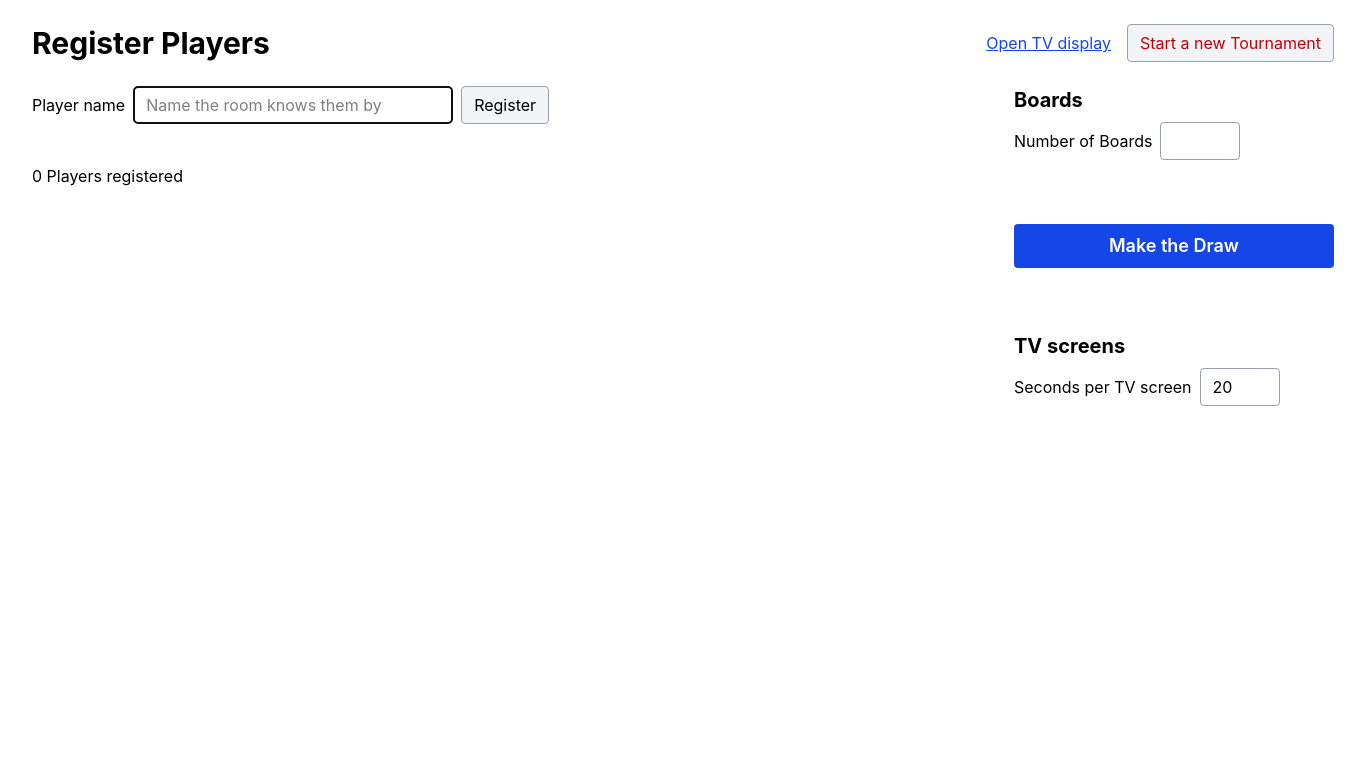
Test: the organizer route › starts a new Tournament only once the Organizer confirms
Step 1. Type "Dave K." into the field labelled "Player name" → (293, 105), box top-left (133, 86), bottom-right (453, 124)
Then press Enter
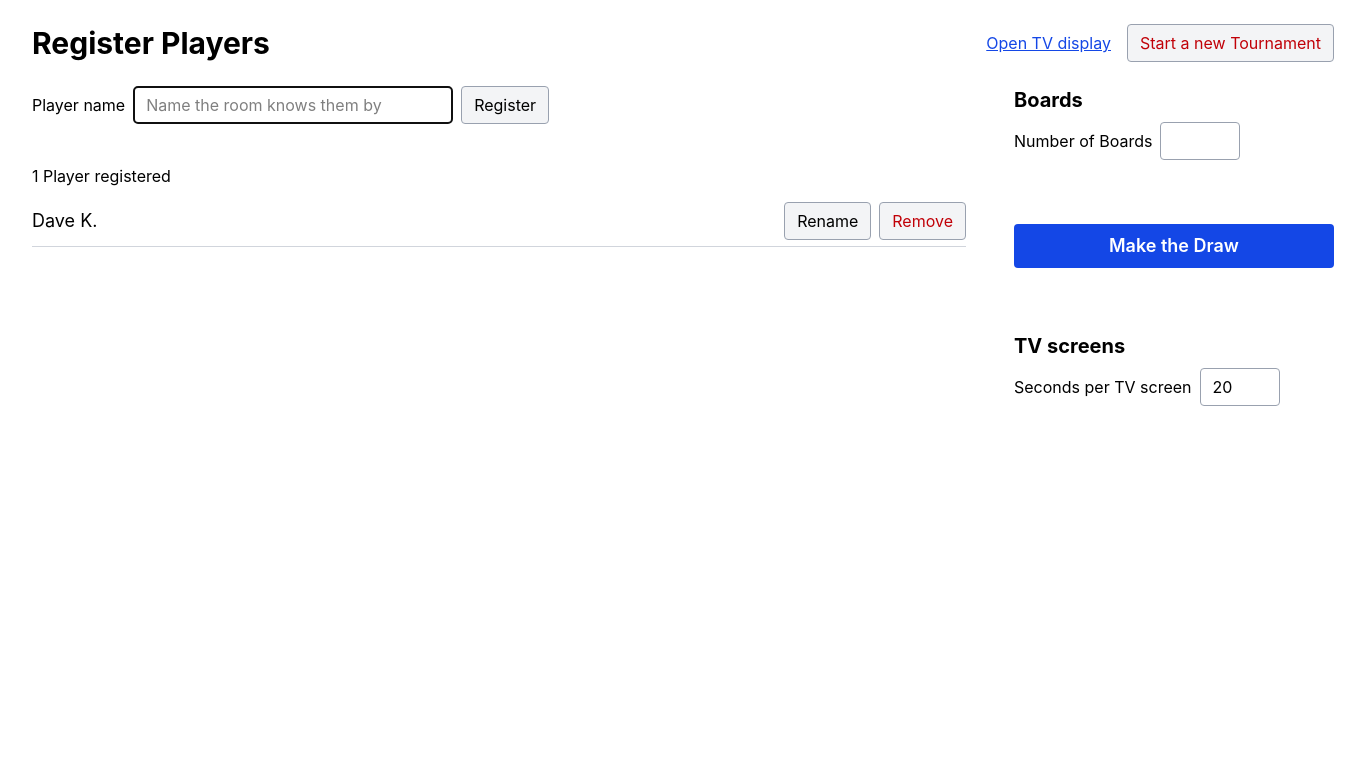
Step 2. Click the button "Start a new Tournament" → (1230, 43), box top-left (1127, 24), bottom-right (1334, 62)
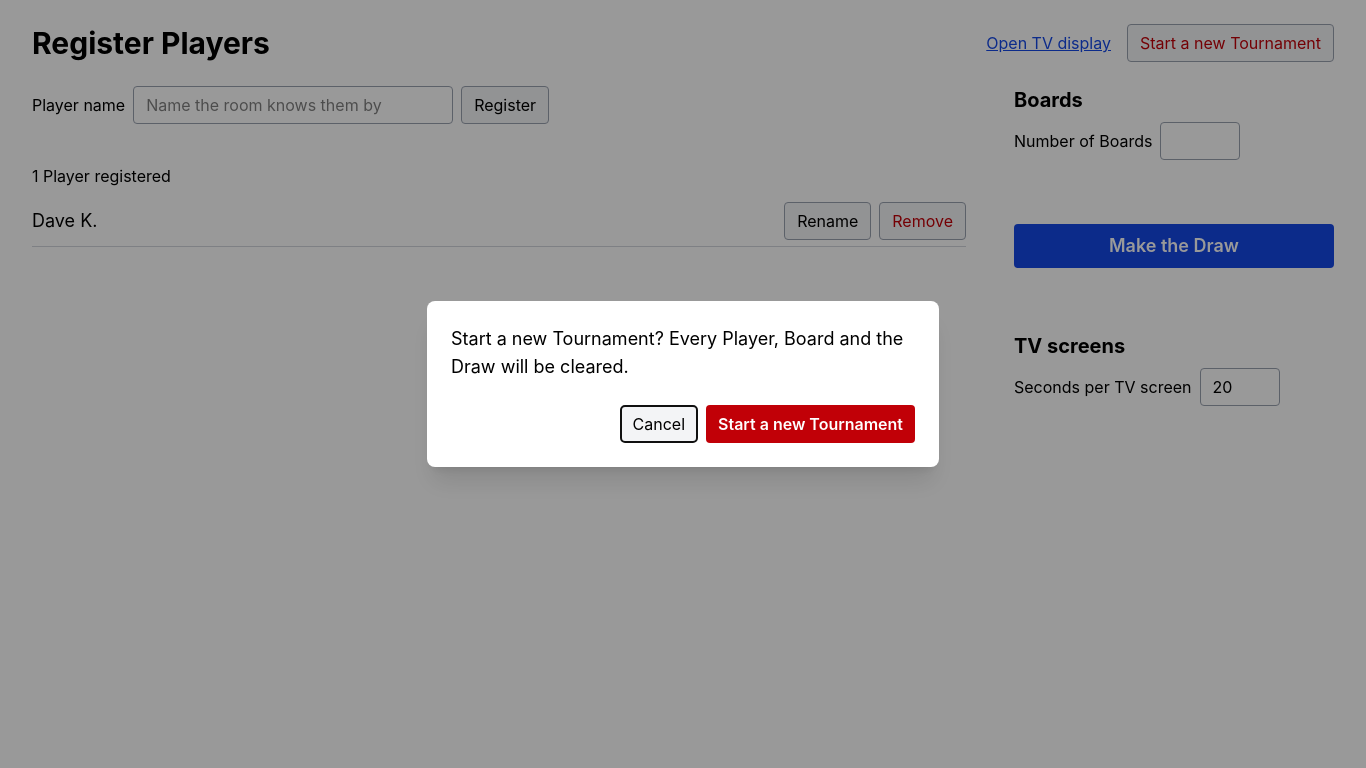
Expected: the dialog shows "Start a new Tournament? Every Player, Board and the Draw will be cleared.", top-left (451, 328), bottom-right (903, 377)
Step 3. Click the button "Cancel" → (659, 424), box top-left (620, 405), bottom-right (698, 443)
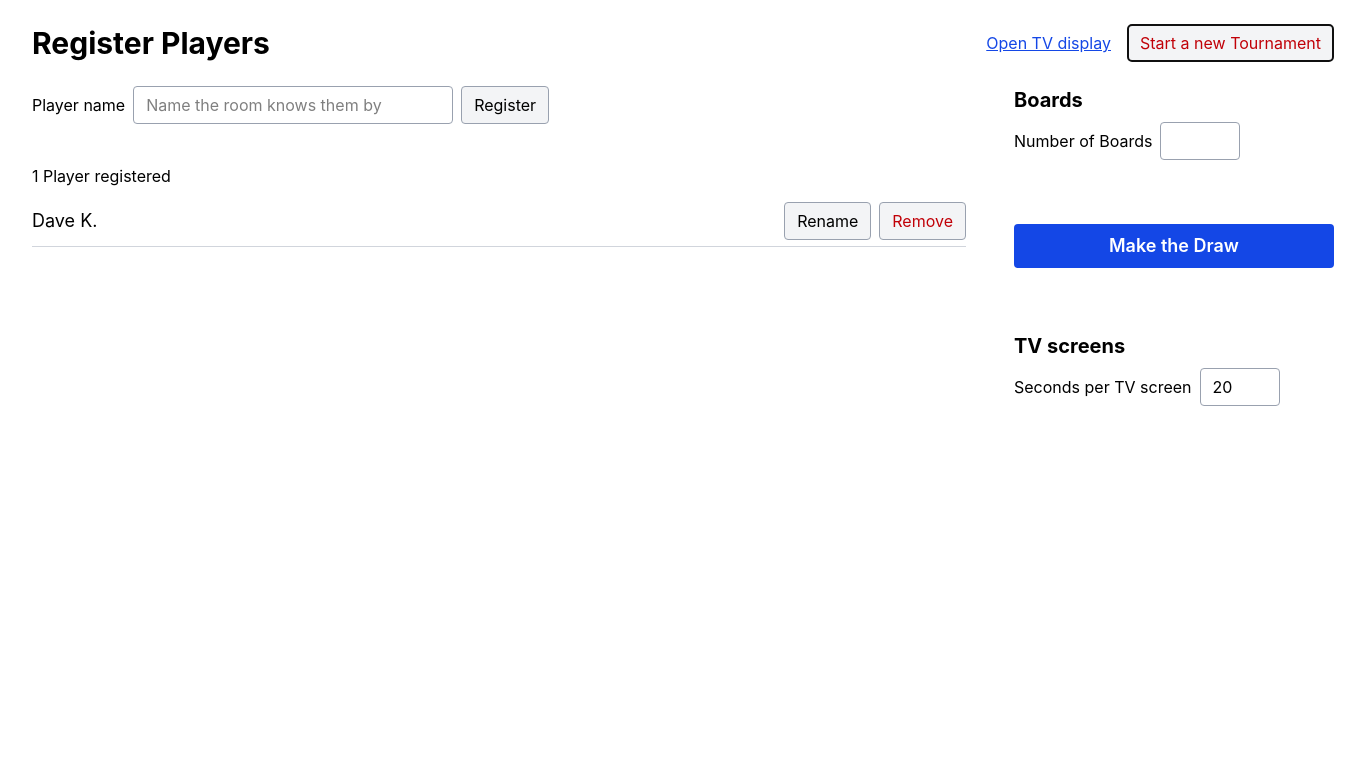
Expected: the dialog is gone
Step 4. Click the button "Start a new Tournament" → (1230, 43), box top-left (1127, 24), bottom-right (1334, 62)
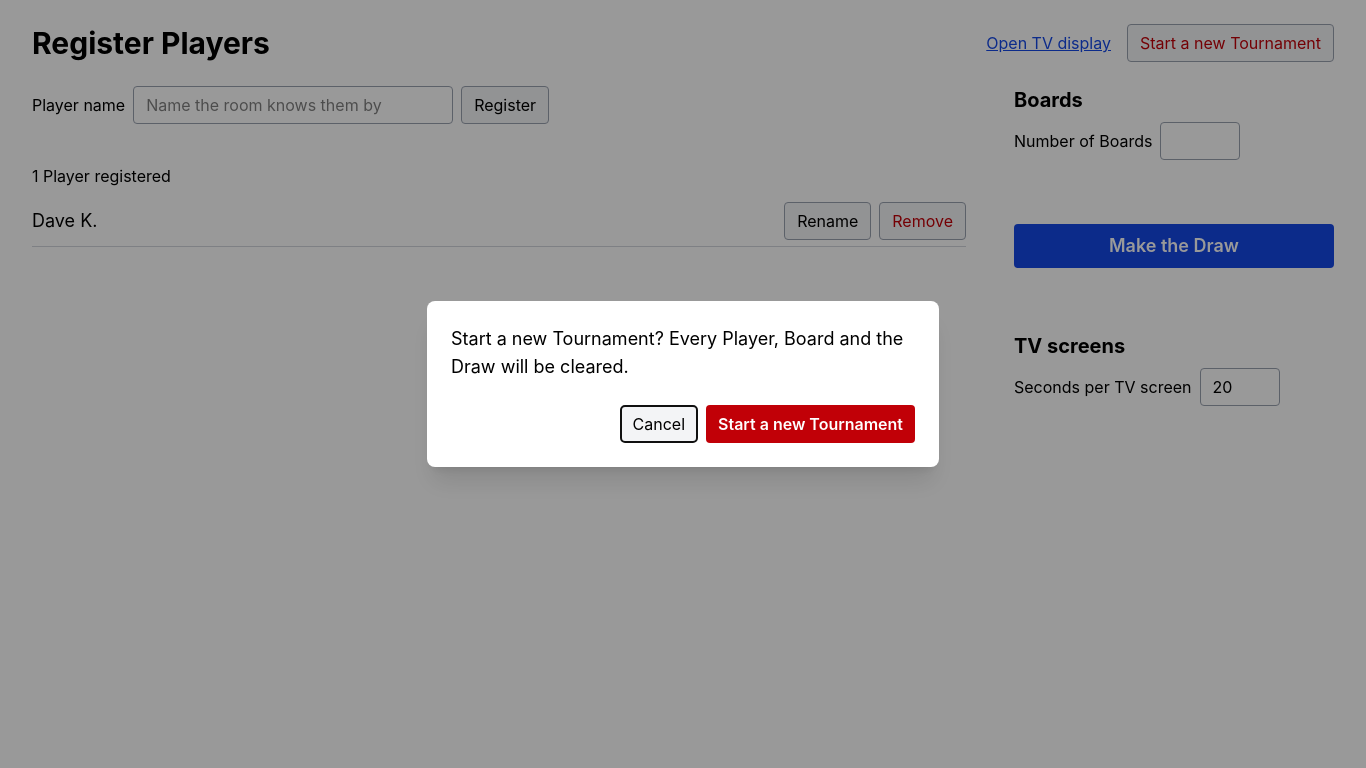
Step 5. Click the button "Start a new Tournament" → (810, 424), box top-left (706, 405), bottom-right (915, 443)
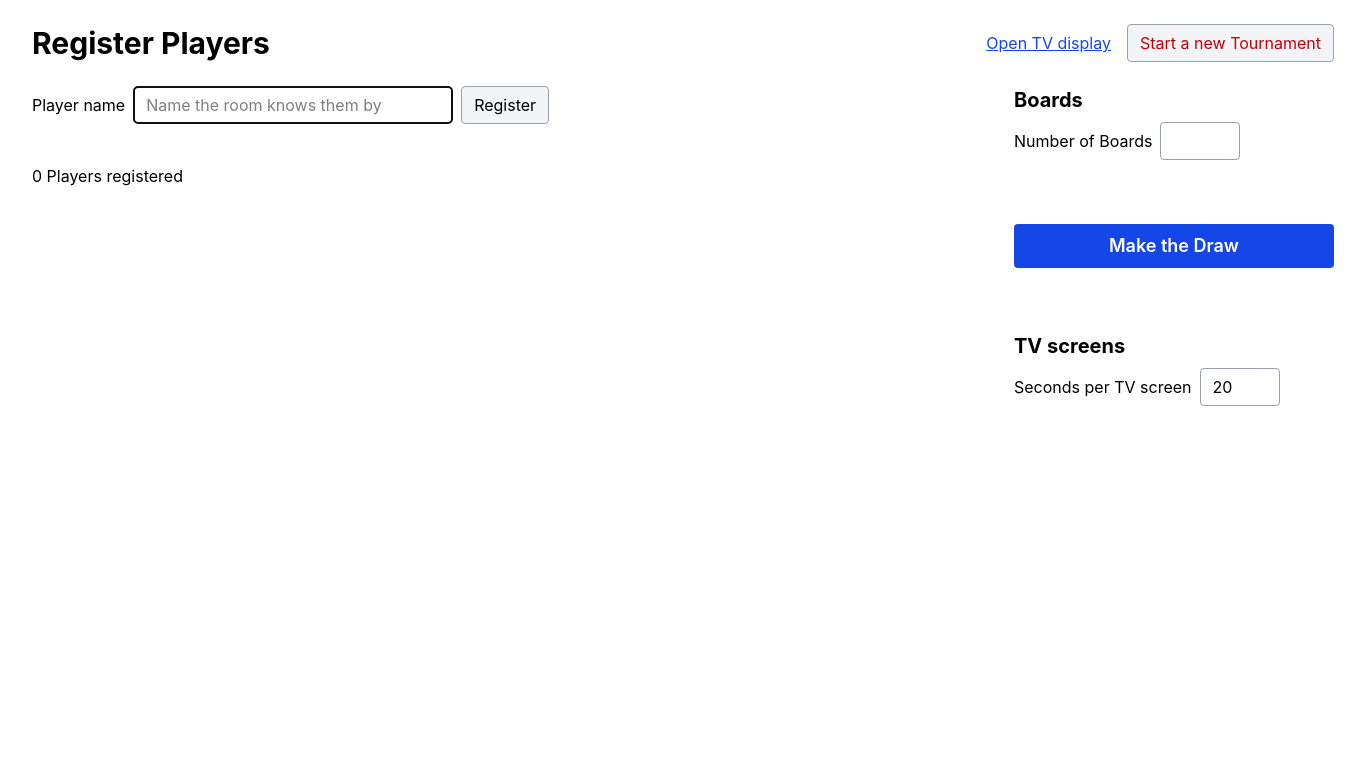
Expected: the dialog is gone
Expected: the text "0 Players registered" is shown, top-left (32, 166), bottom-right (183, 186)
